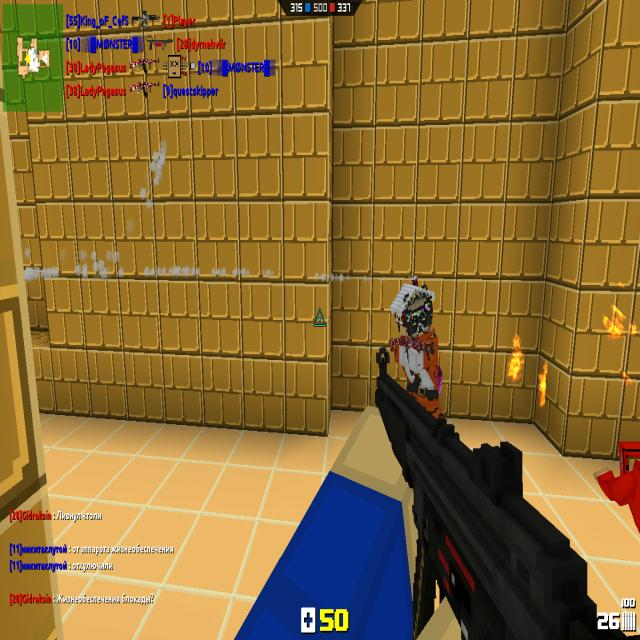enemy: (390, 271, 449, 426)
